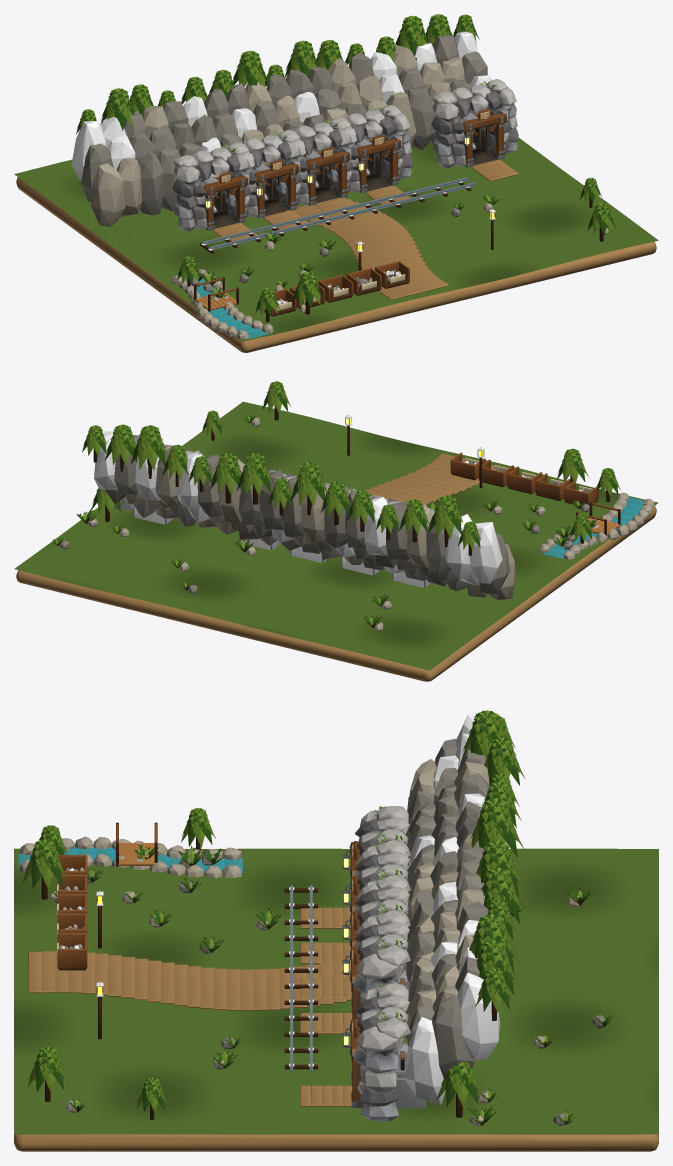
The model's file is Explore.fbx.
The picture shows the model from 3 angles, top to bottom: view 1: azimuth 30°, elevation 25°; view 2: azimuth 150°, elevation 25°; view 3: azimuth 270°, elevation 25°; orthographic projection. The views are drawn at different scales.
Parts seen in each view (by area): view 1: Explore_Env_Grass, Explore_Env_Soil, Explore_Env_Stone, Explore_Env_StoneLight, Explore_RockLight, Explore_Env_Leaf, Explore_Env_LeafLight, Explore_Env_StoneDark, Explore_Rock, Explore_Oak, Explore_RockShadow, Explore_Env_Steel (+7 smaller); view 2: Explore_Env_Grass, Explore_Env_Stone, Explore_Env_Soil, Explore_Env_LeafLight, Explore_Env_StoneLight, Explore_Env_Leaf, Explore_Env_StoneDark, Explore_Env_Oak, Explore_Env_DarkOak, Explore_TunnelBlack, Explore_Env_Water; view 3: Explore_Env_Grass, Explore_Env_Soil, Explore_Env_Stone, Explore_Env_Leaf, Explore_Env_LeafLight, Explore_RockLight, Explore_Env_StoneLight, Explore_Env_StoneDark, Explore_Env_DarkOak, Explore_Env_Oak, Explore_Rock, Explore_RockShadow (+5 smaller).
Part boxes in pixels (x1,y1,x2,y2): Explore_Env_Grass: [14, 138, 658, 341]; Explore_Env_Soil: [16, 160, 656, 352]; Explore_Env_Stone: [81, 35, 487, 312]; Explore_Env_StoneLight: [91, 45, 608, 340]; Explore_RockLight: [173, 79, 517, 231]; Explore_Env_Leaf: [76, 14, 616, 316]; Explore_Env_LeafLight: [77, 14, 613, 315]; Explore_Env_StoneDark: [71, 31, 491, 303]; Explore_Rock: [172, 90, 518, 219]; Explore_Oak: [203, 109, 506, 226]; Explore_RockShadow: [174, 105, 517, 220]; Explore_Env_Steel: [203, 177, 475, 249]; Explore_Env_Grass: [14, 401, 658, 670]; Explore_Env_Stone: [60, 434, 589, 593]; Explore_Env_Soil: [16, 453, 656, 681]; Explore_Env_LeafLight: [56, 381, 620, 626]; Explore_Env_StoneLight: [88, 417, 654, 630]; Explore_Env_Leaf: [52, 381, 618, 626]; Explore_Env_StoneDark: [94, 431, 582, 585]; Explore_Env_Oak: [450, 452, 617, 520]; Explore_Env_DarkOak: [52, 405, 620, 627]; Explore_TunnelBlack: [134, 507, 423, 587]; Explore_Env_Water: [543, 497, 643, 558]; Explore_Env_Grass: [14, 848, 658, 1134]; Explore_Env_Soil: [14, 907, 658, 1151]; Explore_Env_Stone: [59, 739, 605, 1125]; Explore_Env_Leaf: [23, 710, 610, 1124]; Explore_Env_LeafLight: [22, 710, 611, 1122]; Explore_RockLight: [356, 806, 410, 1094]; Explore_Env_StoneLight: [19, 759, 583, 1126]; Explore_Env_StoneDark: [63, 714, 499, 1105]; Explore_Env_DarkOak: [41, 822, 612, 1125]; Explore_Env_Oak: [57, 824, 157, 968]; Explore_Rock: [355, 819, 398, 1108]; Explore_RockShadow: [353, 865, 425, 1121].
Bounding box in the file's own units: 22.49 × 6.84 × 21.
32 materials, 2 textured.
